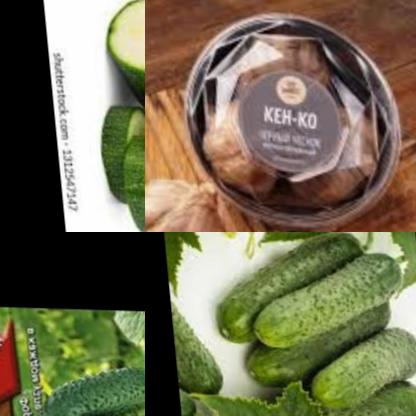cucumber: (193, 232, 375, 353), (241, 238, 414, 353), (222, 299, 396, 390), (309, 319, 416, 403), (31, 348, 145, 416), (276, 368, 416, 416), (170, 305, 234, 408)
garlic: (192, 75, 263, 201), (249, 19, 344, 107), (294, 119, 374, 207), (145, 167, 227, 232)
vegetable marrow: (89, 100, 145, 232), (94, 0, 145, 140)
